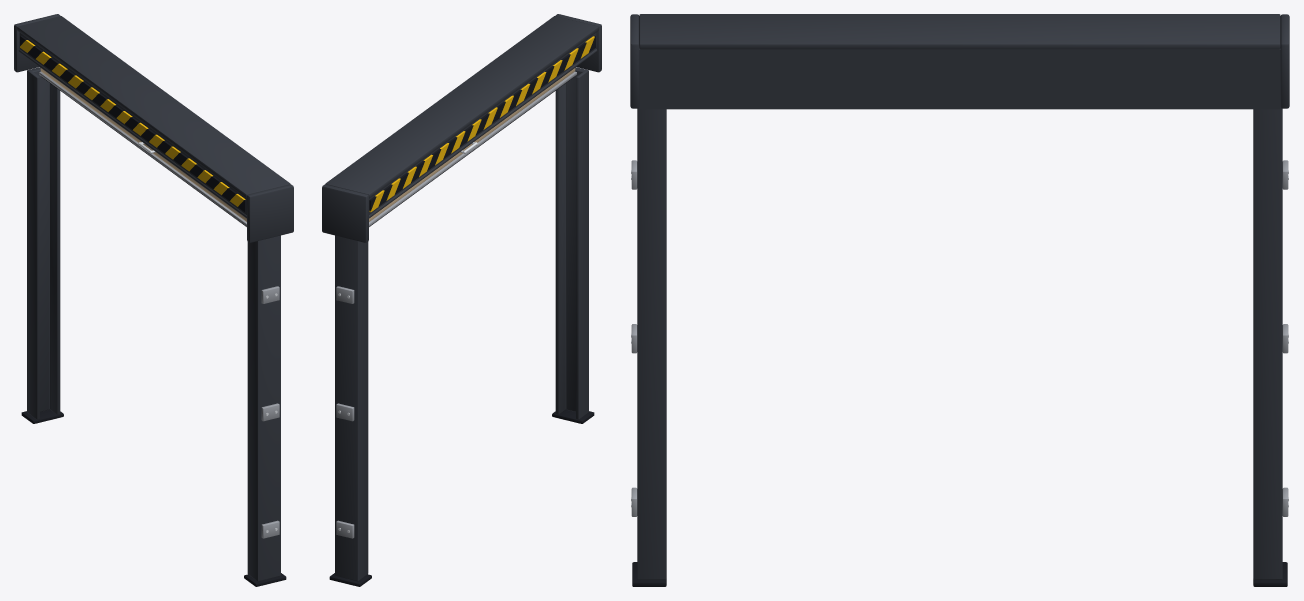
Rendered from G_RollerDoor.fbx.
3 renders of one model, left to right at view 1: azimuth 30°, elevation 25°; view 2: azimuth 150°, elevation 25°; view 3: azimuth 270°, elevation 25°, orthographic. The views are drawn at different scales.
Visible parts, largest first — view 1: Frame, Dark, Metal, Accent, Wall; view 2: Frame, Dark, Metal, Accent, Wall; view 3: Frame, Metal.
Part boxes in pixels (x1,y1,x2,y2): Frame: (14, 14, 293, 581); Dark: (20, 35, 286, 586); Metal: (39, 71, 279, 538); Accent: (20, 40, 245, 206); Wall: (40, 68, 246, 221); Frame: (322, 14, 601, 581); Dark: (329, 35, 595, 586); Metal: (336, 71, 576, 538); Accent: (369, 36, 594, 212); Wall: (369, 68, 575, 221); Frame: (630, 14, 1289, 579); Metal: (631, 160, 1288, 516).
Bounding box in the file's own units: 1.6 × 13.4 × 14.6.
